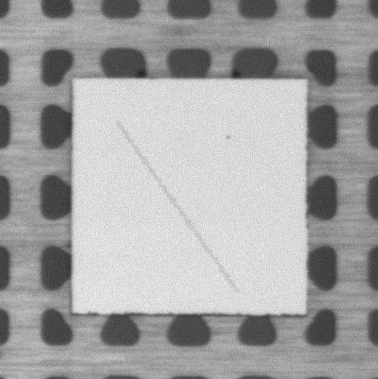DIE_CRACK: (117, 122, 238, 292)
